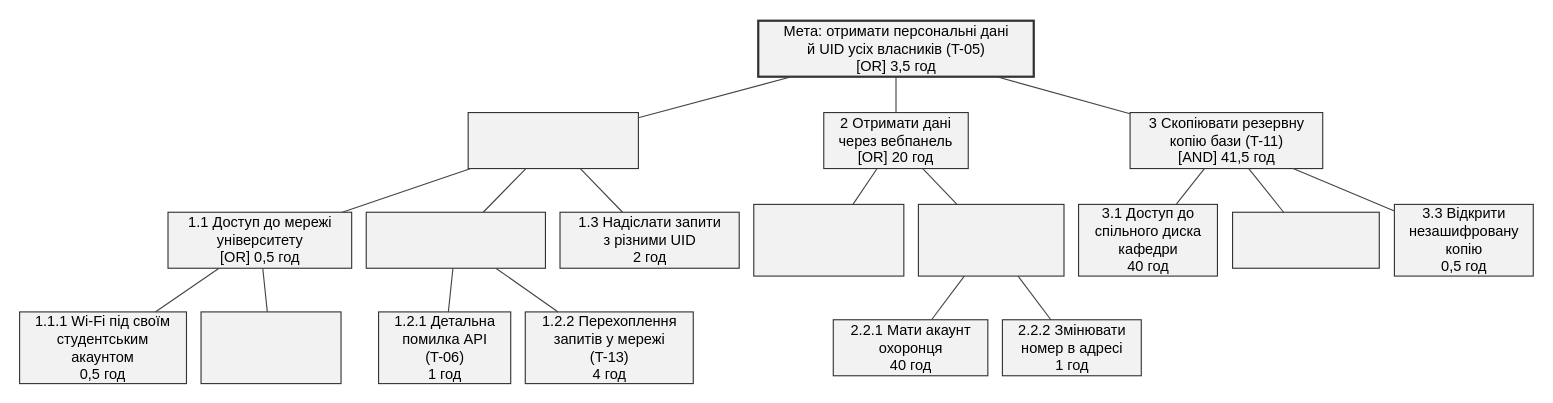
Image size: 1553x403. Some labels were removed from this diagram. Here are the shapes that lost their labels. From the top down, the centre of each, then its label:
At pixel 552 140: "1 Вивантажити дані через API (T-05) [AND] 3,5 год".
At pixel 455 239: "1.2 Дізнатися адресу і формат запиту [OR] 1 год".
At pixel 828 239: "2.1 Підбір пароля адміністратора (T-02) 20 год".
At pixel 990 239: "2.2 Картки через акаунт охоронця (T-08) [AND] 41 год".
At pixel 1305 239: "3.2 Знайти і скопіювати файл 1 год".
At pixel 270 347: "1.1.2 Комп'ютер у відкритій аудиторії 0,5 год".
